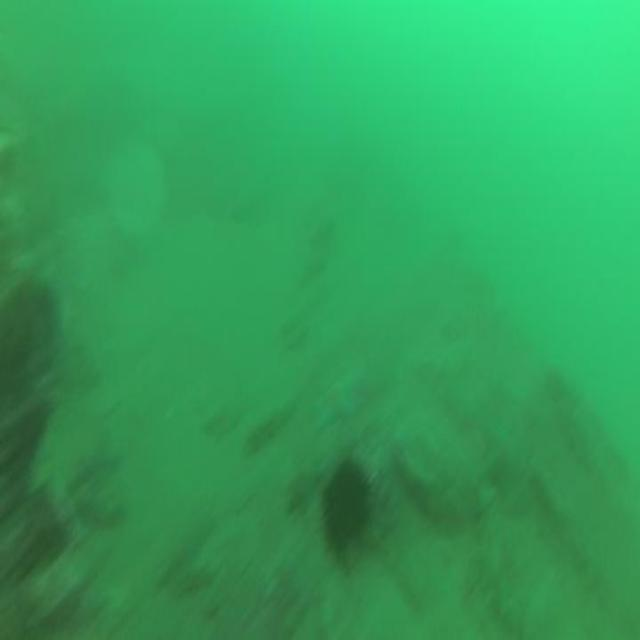echinus: (324, 458, 372, 550)
holothurian: (242, 399, 292, 456)
starfish: (312, 378, 356, 427)
